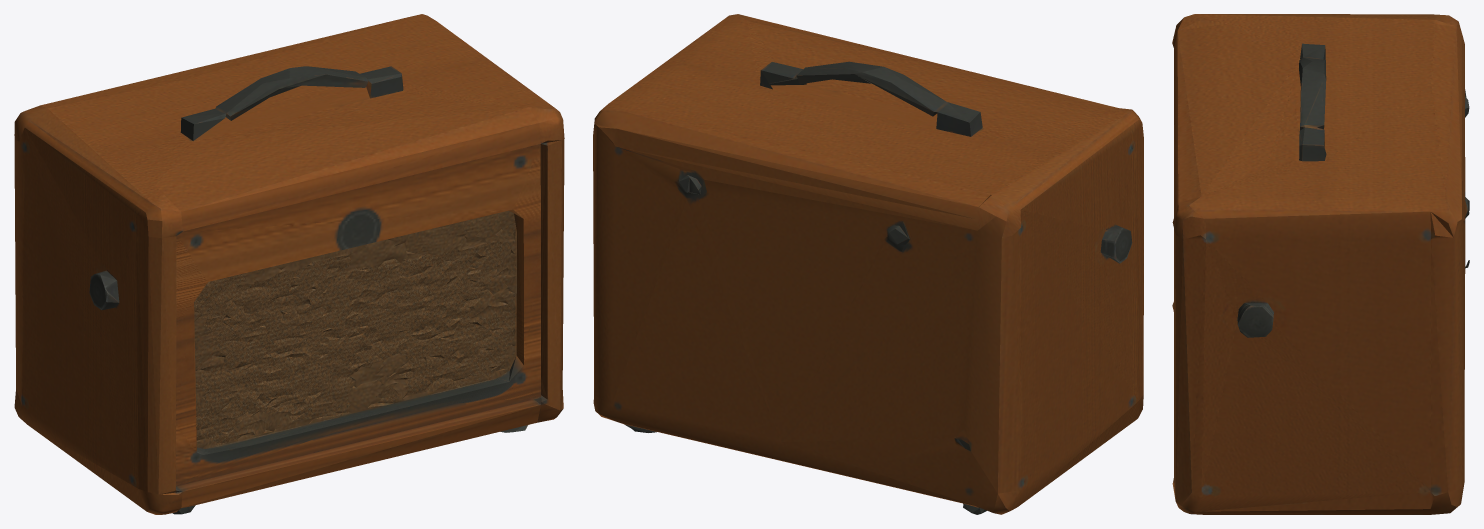
The model's file is Old_speaker_box.glb.
The picture shows the model from 3 angles, left to right: view 1: azimuth 30°, elevation 25°; view 2: azimuth 150°, elevation 25°; view 3: azimuth 270°, elevation 25°; orthographic projection.
Size of the model in its own units: 1.89 by 1.44 by 1.1.
Materials: 1 (1 with a texture image).
